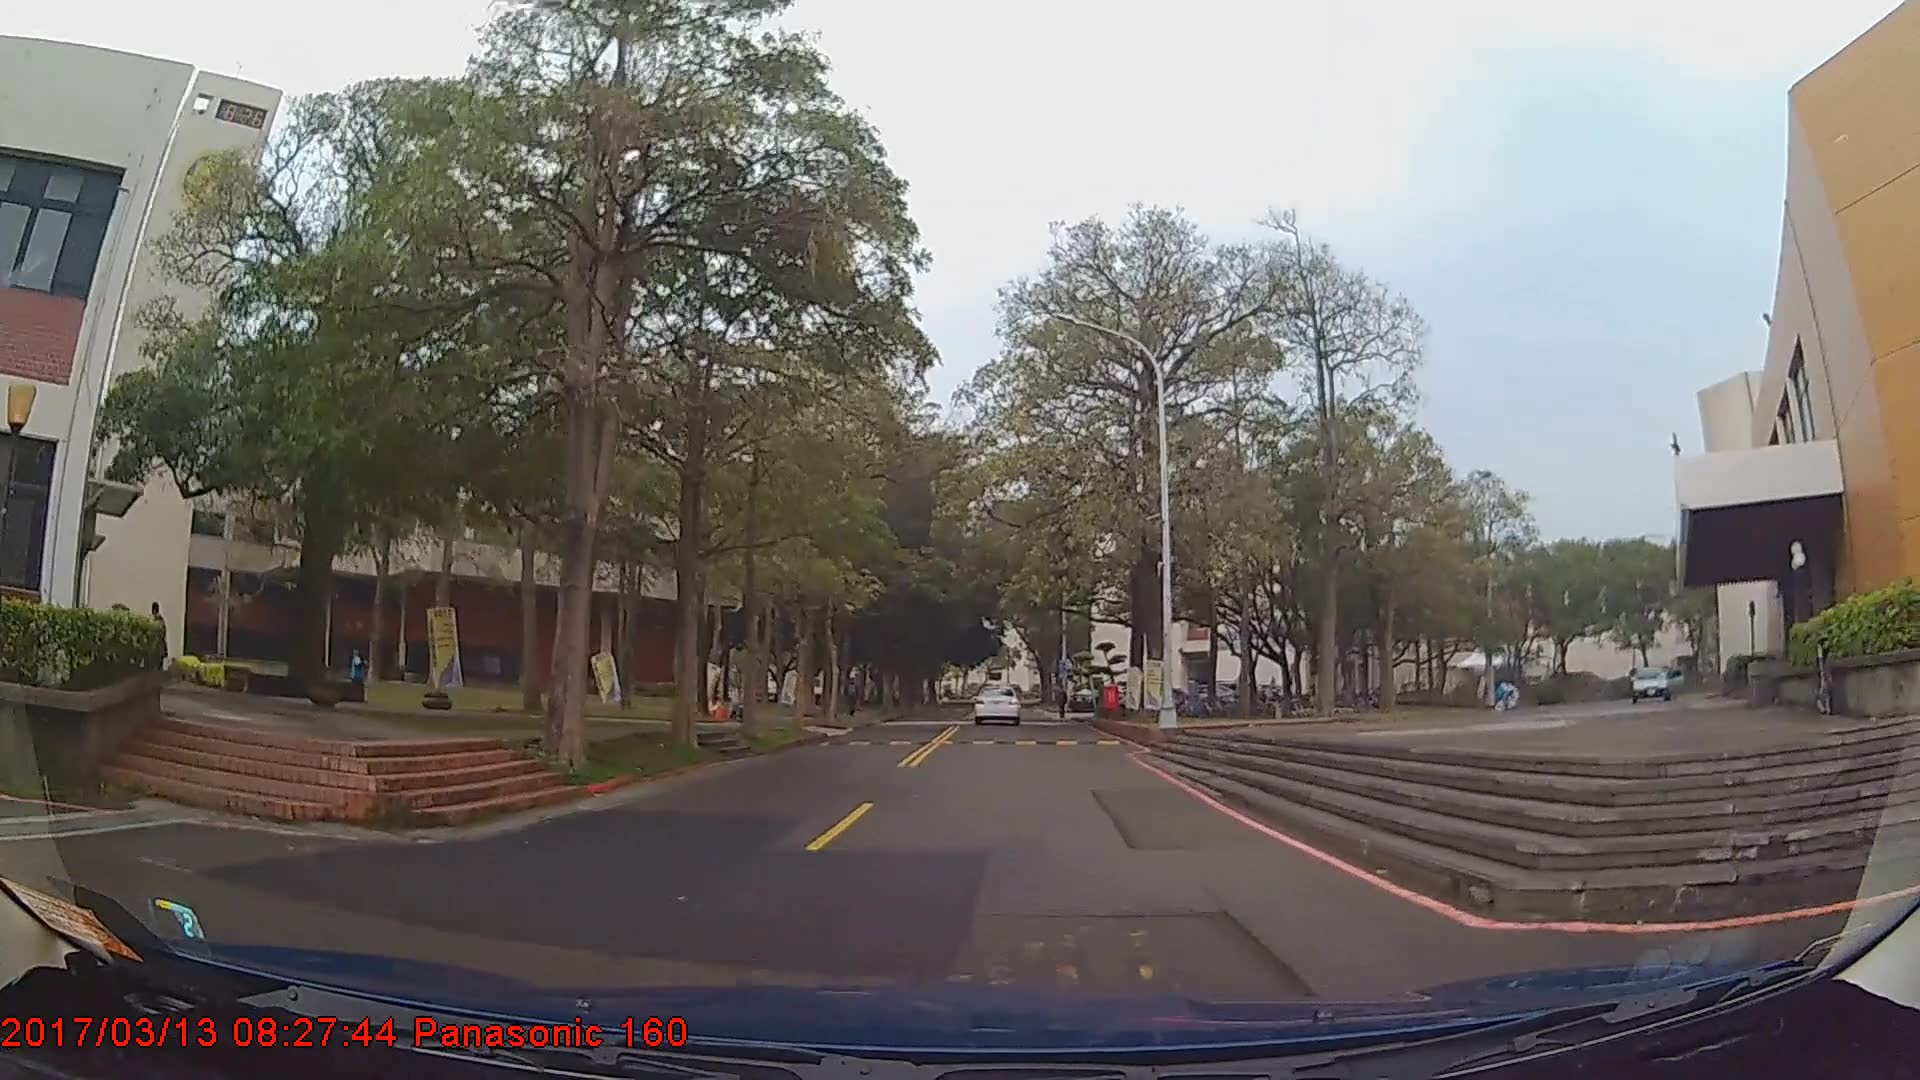vehicle: (1623, 659, 1691, 702), (973, 678, 1021, 721)
